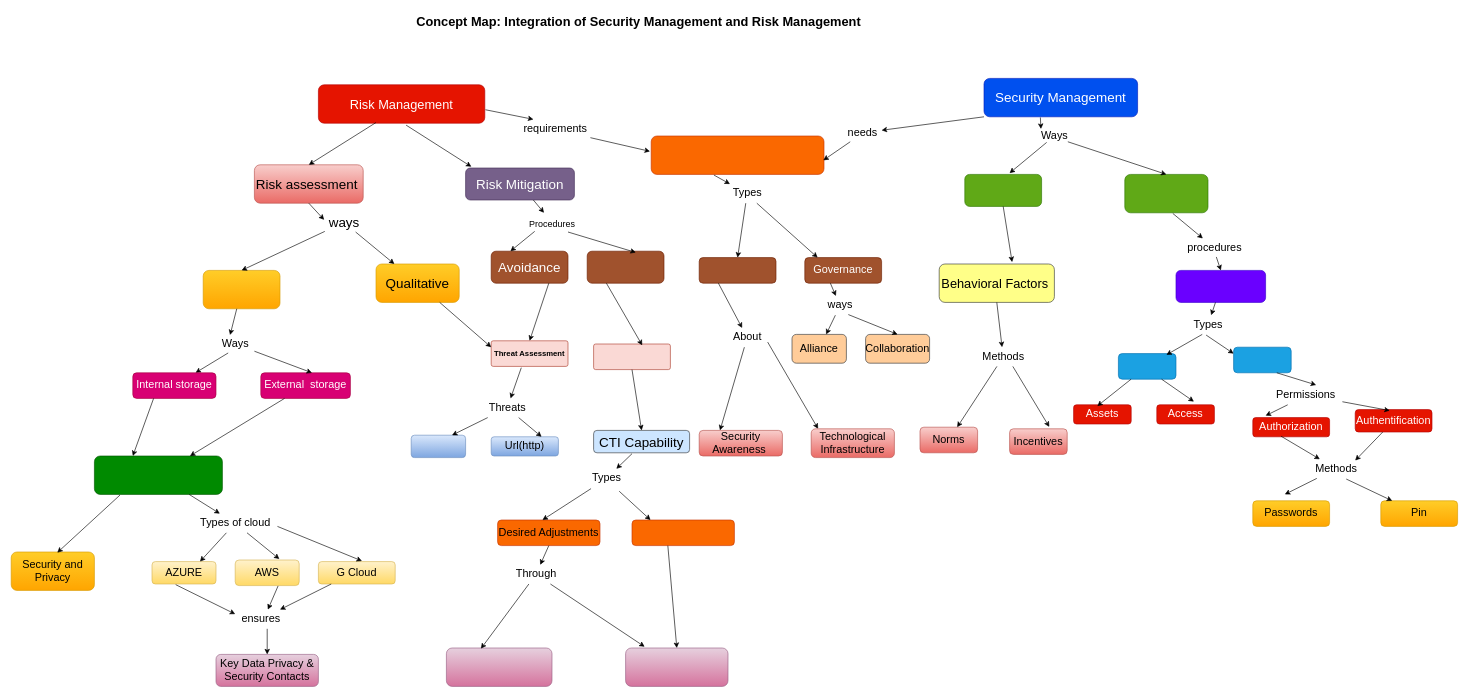
The diagram is 1469 pixels wide and 698 high, and some of its shapes have lost their labels. Each missing label, with the box of its shape:
Business Continuity planning: (593, 343, 670, 370)
Cloud Computing: (94, 455, 222, 494)
Compliance: (964, 174, 1042, 206)
Cyber: (1118, 353, 1176, 379)
Information security decision-making skills: (625, 647, 728, 686)
Perceived costs and benefits of security actions: (446, 647, 552, 686)
Perceptual Skills: (631, 519, 734, 546)
Physical: (1233, 347, 1291, 373)
Quantitative: (203, 270, 280, 309)
Resources and Capabilities: (651, 135, 824, 174)
Response: (587, 251, 664, 283)
Security frameworks: (1175, 270, 1266, 302)
Security policies: (1124, 174, 1208, 213)
Spam: (411, 435, 466, 458)
Training: (699, 257, 776, 283)
